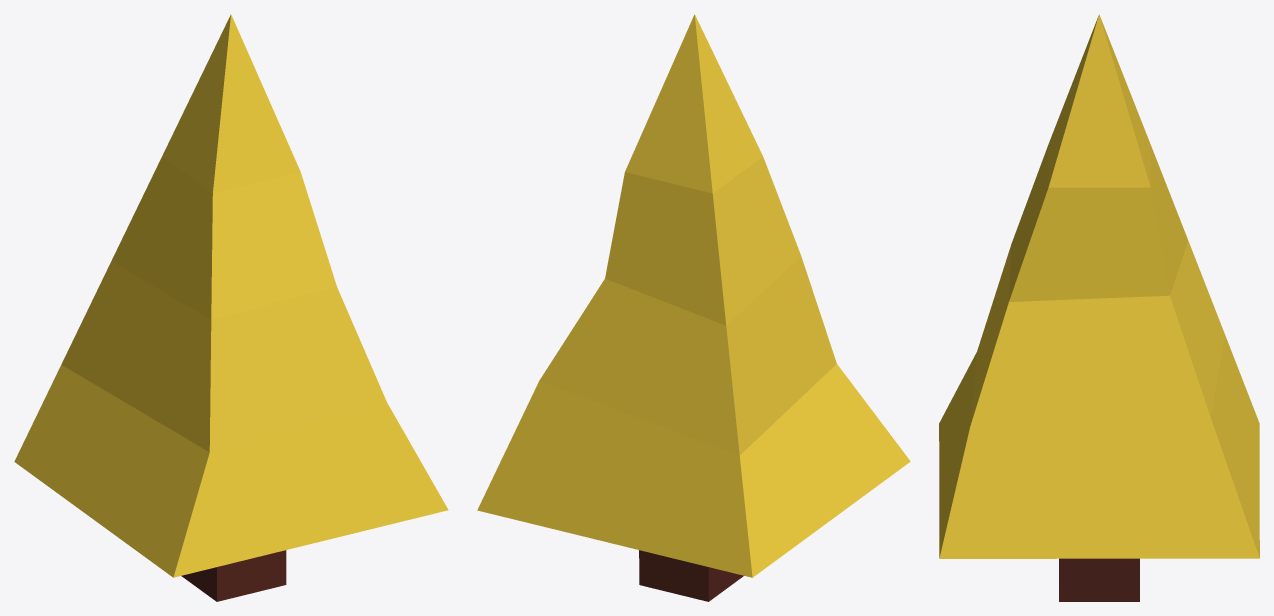
File: sariCam.gltf
3 renders of one model, left to right at view 1: azimuth 30°, elevation 25°; view 2: azimuth 150°, elevation 25°; view 3: azimuth 270°, elevation 25°, orthographic.
Visible parts, largest first — view 1: Cube.001; view 2: Cube.001; view 3: Cube.001.
Boxes of the visible parts, x1,y1,x2,y2 form: Cube.001: (14,14,448,601); Cube.001: (477,14,910,601); Cube.001: (939,14,1259,601).
Bounding box in the file's own units: 2.15 × 4.22 × 2.15.
